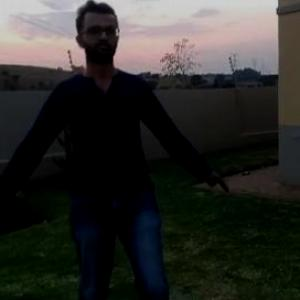land: (1, 0, 251, 295)
